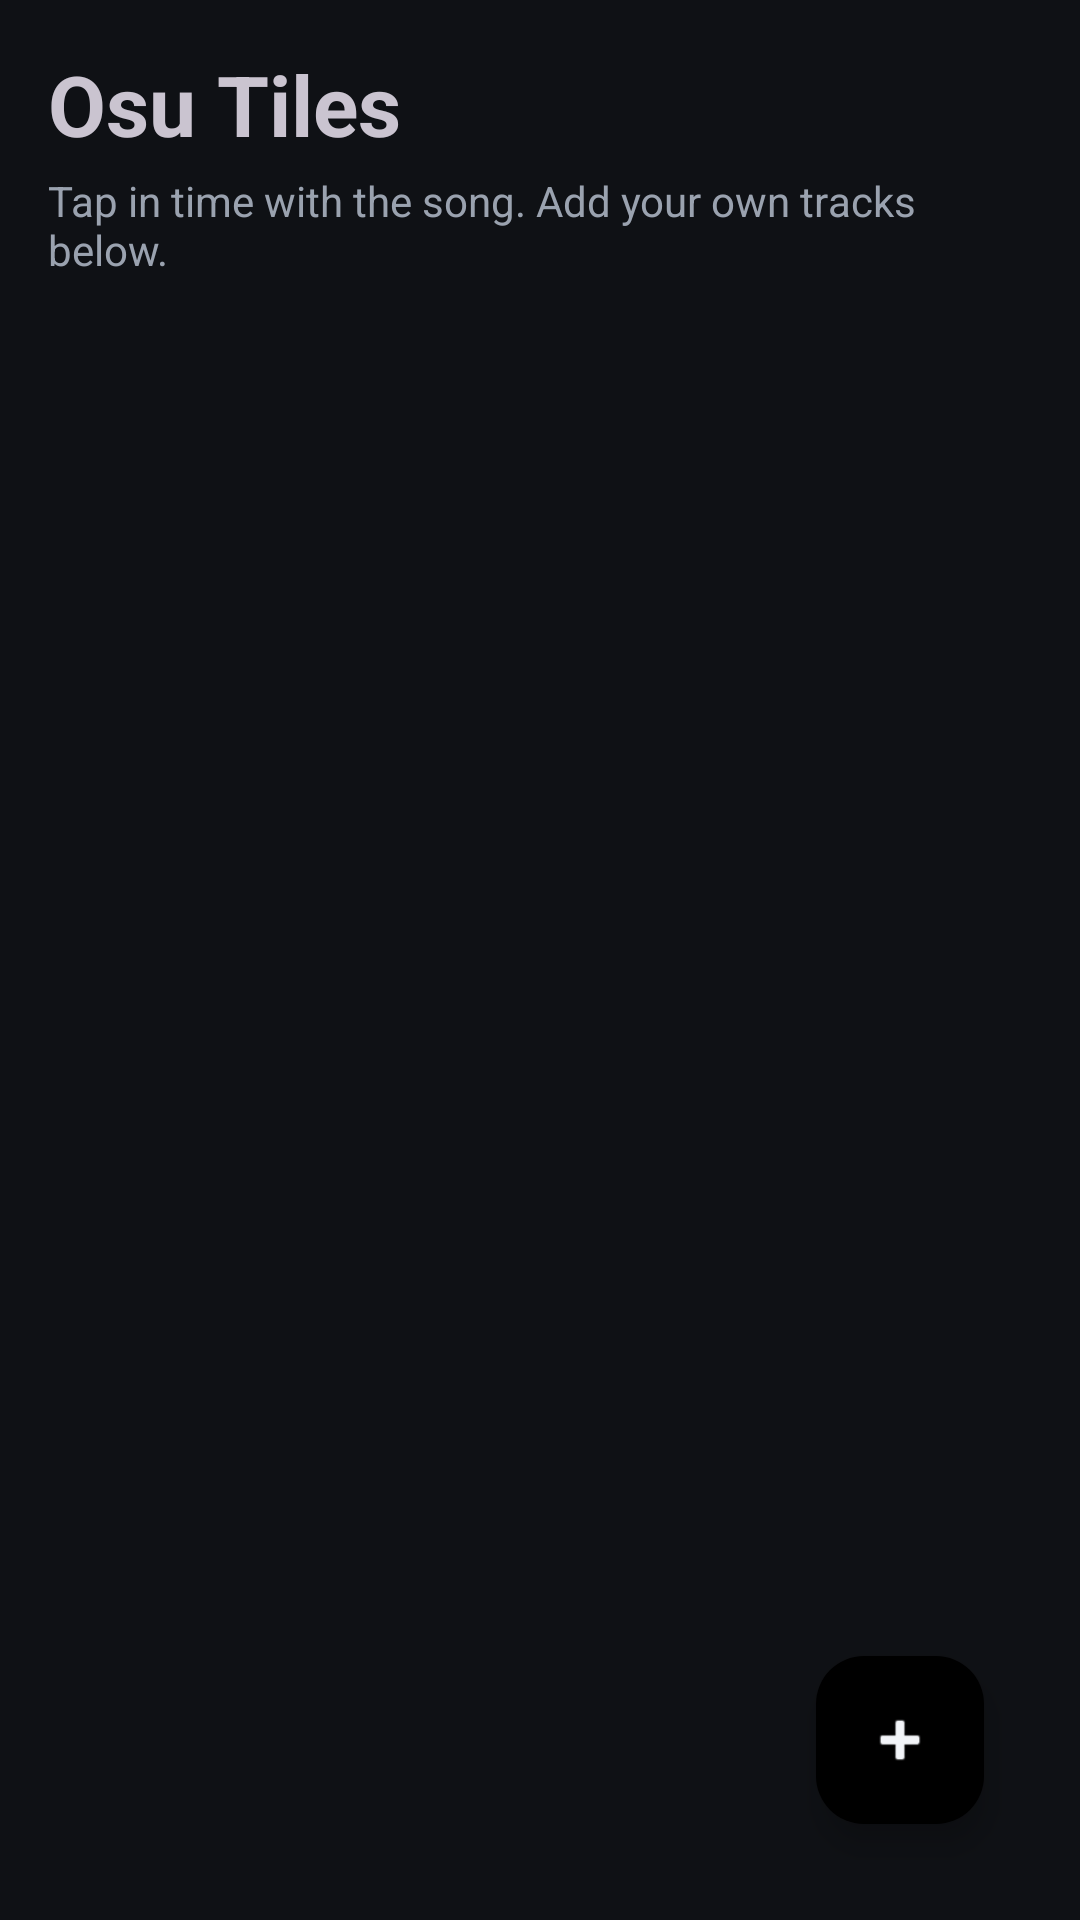

Named icons in this screenshot (1080w x 1920h) and their centers, (x,y):
Add song: (900,1740)
